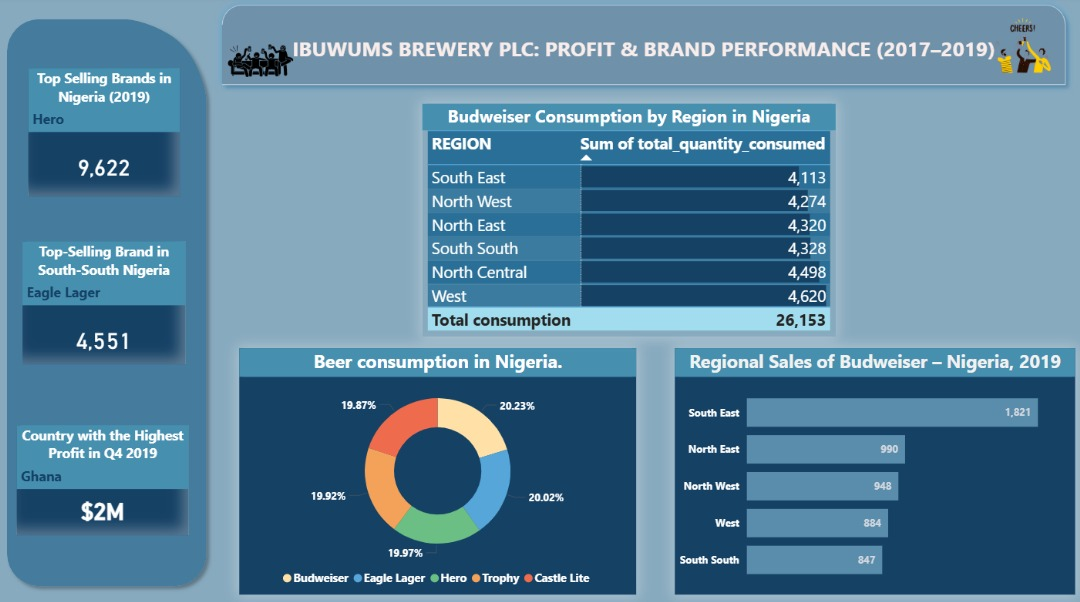

Layout of this report page (visuals, bound fields, positions):
{"tool":"powerbi","page":{"name":"in Nigeria","canvas":[1280,720],"ordinal":2},"visuals":[{"type":"shape","box":[0,16.8,252.9,686.7],"z":0},{"type":"cardVisual","title":"Top-Selling Brand in South-South Nigeria","fields":{"Data":["Sum(Q15 Favorites brand in South-So.total_quantity)"]},"box":[27.6,287.6,191.8,145],"z":1000},{"type":"donutChart","title":"Beer consumption in Nigeria.","fields":{"Category":["Q16 Beer consumption in Nigeria.BRANDS"],"Y":["Sum(Q16 Beer consumption in Nigeria.total_quantity_consumed)"]},"box":[282.8,413.5,467.4,290],"z":2000},{"type":"tableEx","title":"Budweiser Consumption by Region in Nigeria","fields":{"Values":["Q17 Level of consumption of Bud.REGION","Sum(Q17 Level of consumption of Bud.total_quantity_consumed)"]},"box":[497.4,125.8,486.6,274.5],"z":3000},{"type":"barChart","title":"Regional Sales of Budweiser – Nigeria, 2019","fields":{"Category":["Q18 Level of consumption of Bud.REGION"],"Y":["Sum(Q18 Level of consumption of Bud.total_quantity_consumed)"]},"box":[794.6,413.5,471,290],"z":4000},{"type":"card","title":"Country with the Highest Profit in Q4 2019","fields":{"Values":["Sum(Q21 Country with the highest pr.Total_Profit)"]},"box":[20.4,504.6,202.5,129.4],"z":5000},{"type":"shape","title":"IBUWUMS BREWERY PLC: Profit & Brand Performance (2017–2019)","box":[252.9,0,1011.5,112.7],"z":6000},{"type":"image","box":[264.3,51,86.2,48.8],"z":7000},{"type":"image","box":[1153.5,17,96.4,83.9],"z":8000},{"type":"cardVisual","title":"Top Selling Brands in Nigeria (2019)","fields":{"Data":["Sum(Q14 Which brands sold the highe.Qty_Sold)"]},"box":[33.6,83.9,178.6,151],"z":9000}]}

Visuals, with their boxes in screenshot pixels (x1, y1, x2, y2), scaled from the page's 1280x720 canvas onto the 1080x602 screenshot:
shape: [x1=0, y1=14, x2=213, y2=588]
"Top-Selling Brand in South-South Nigeria" cardVisual: [x1=23, y1=240, x2=185, y2=362]
"Beer consumption in Nigeria." donutChart: [x1=239, y1=346, x2=633, y2=588]
"Budweiser Consumption by Region in Nigeria" tableEx: [x1=420, y1=105, x2=830, y2=335]
"Regional Sales of Budweiser – Nigeria, 2019" barChart: [x1=670, y1=346, x2=1068, y2=588]
"Country with the Highest Profit in Q4 2019" card: [x1=17, y1=422, x2=188, y2=530]
"IBUWUMS BREWERY PLC: Profit & Brand Performance (2017–2019)" shape: [x1=213, y1=0, x2=1067, y2=94]
image: [x1=223, y1=43, x2=296, y2=83]
image: [x1=973, y1=14, x2=1055, y2=84]
"Top Selling Brands in Nigeria (2019)" cardVisual: [x1=28, y1=70, x2=179, y2=196]
